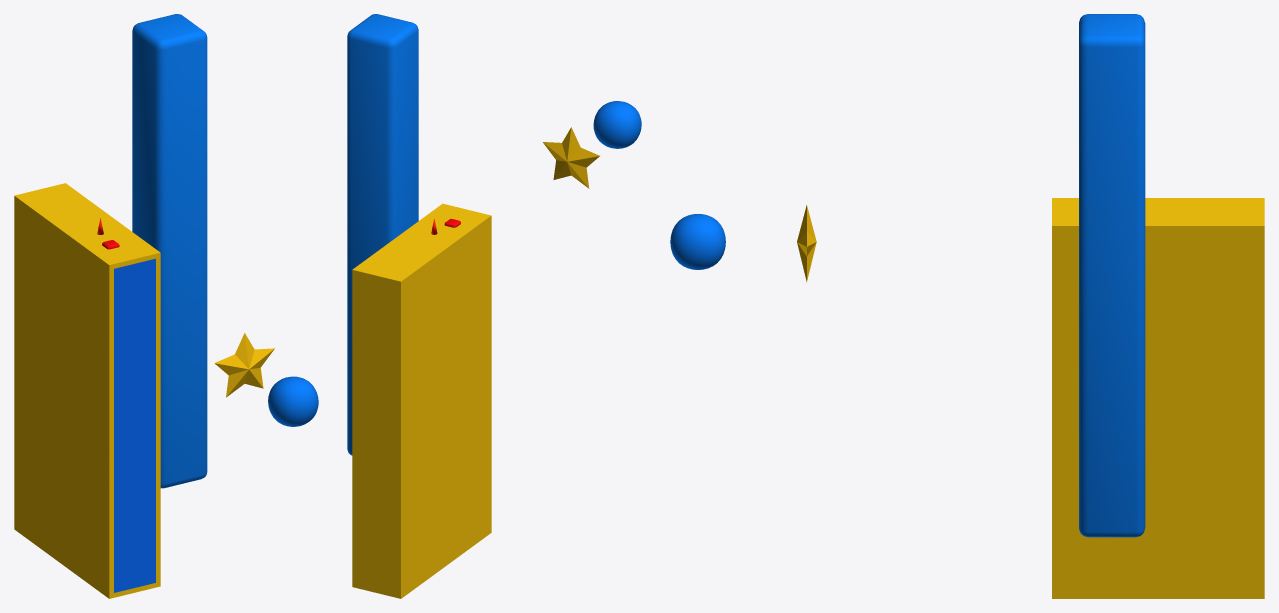
Rendered from plinkoBalls.fbx.
3 renders of one model, left to right at view 1: azimuth 30°, elevation 25°; view 2: azimuth 150°, elevation 25°; view 3: azimuth 270°, elevation 25°, orthographic. The views are drawn at different scales.
Parts seen in each view (by area): view 1: Куб.001, Куб, Cube, Цилиндр; view 2: Куб.001, Куб, Cube, Цилиндр; view 3: Куб.001, Куб, Cube, Цилиндр.
Boxes of the visible parts, bbox=[...] form: Куб.001: bbox=[14, 183, 160, 598]; Куб: bbox=[132, 14, 207, 488]; Cube: bbox=[268, 376, 318, 426]; Цилиндр: bbox=[214, 333, 274, 397]; Куб.001: bbox=[352, 203, 491, 598]; Куб: bbox=[347, 14, 418, 455]; Cube: bbox=[593, 101, 641, 148]; Цилиндр: bbox=[543, 127, 599, 188]; Куб.001: bbox=[1052, 198, 1264, 598]; Куб: bbox=[1079, 14, 1145, 537]; Cube: bbox=[670, 214, 725, 269]; Цилиндр: bbox=[797, 205, 816, 282].
Bounding box in the file's own units: 459 × 1976 × 1793.
